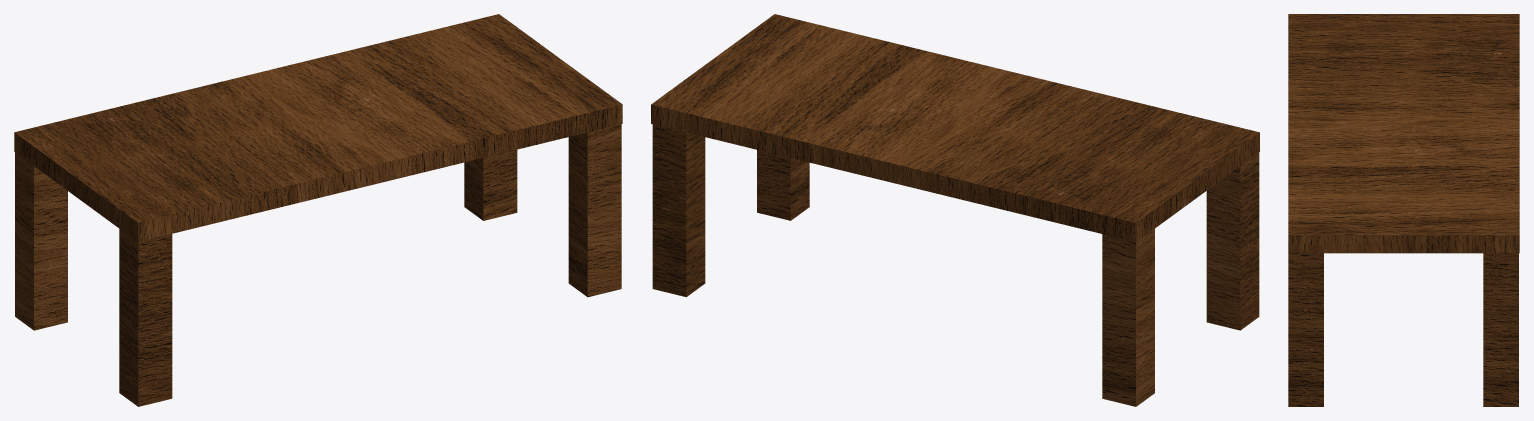
Rendered from table.fbx.
3 views of the same model, side by side, from view 1: azimuth 30°, elevation 25°; view 2: azimuth 150°, elevation 25°; view 3: azimuth 270°, elevation 25° (orthographic). The views are drawn at different scales.
Visible parts, largest first — view 1: Cube.001; view 2: Cube.001; view 3: Cube.001.
Boxes of the visible parts, <box> form: Cube.001: <box>14,14,622,406</box>; Cube.001: <box>651,14,1259,406</box>; Cube.001: <box>1288,14,1519,406</box>.
Bounding box in the file's own units: 1011 × 367 × 446.
1 material, 1 textured.
